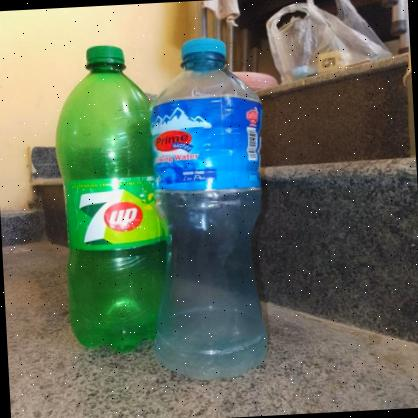bottle: (136, 32, 304, 384), (44, 36, 170, 362)
cap: (78, 41, 130, 72), (176, 36, 231, 62)
label: (150, 96, 268, 204), (60, 173, 158, 255)
